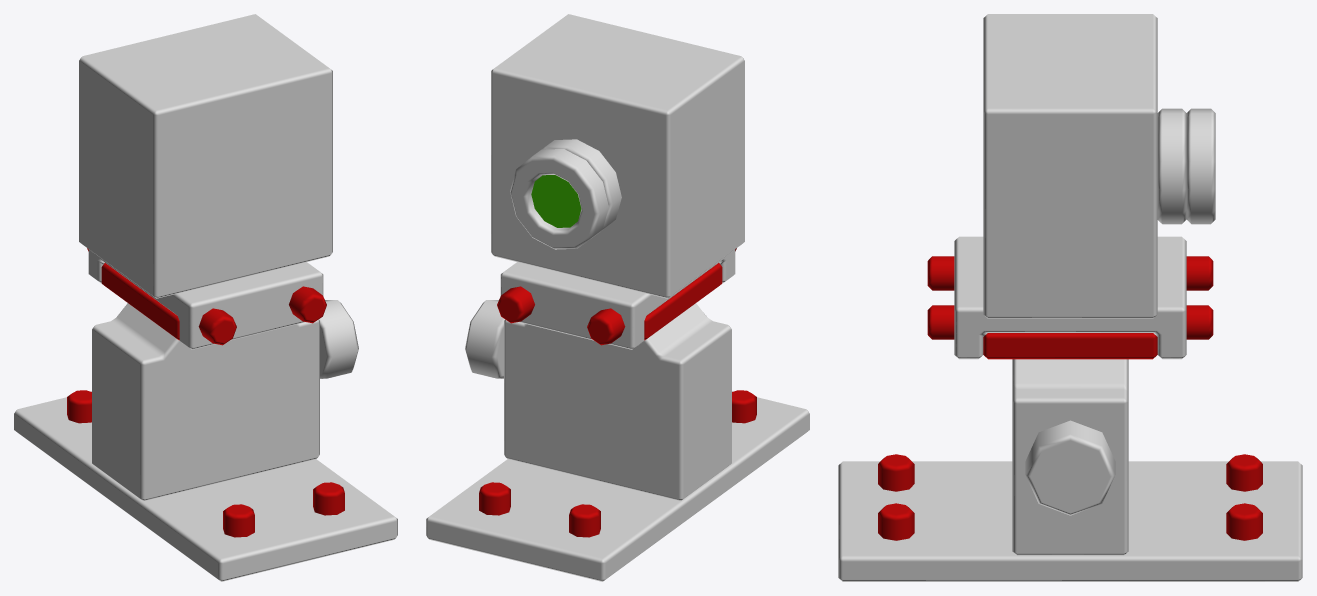
Rendered from OpticCamera.fbx.
3 renders of one model, left to right at view 1: azimuth 30°, elevation 25°; view 2: azimuth 150°, elevation 25°; view 3: azimuth 270°, elevation 25°, orthographic. The views are drawn at different scales.
Parts seen in each view (by area): view 1: OpticCamera; view 2: OpticCamera; view 3: OpticCamera.
Part boxes in pixels (x1,y1,x2,y2): OpticCamera: [14, 14, 397, 581]; OpticCamera: [426, 14, 809, 581]; OpticCamera: [838, 14, 1302, 581].
Bounding box in the file's own units: 6.25 × 10 × 11.25.
